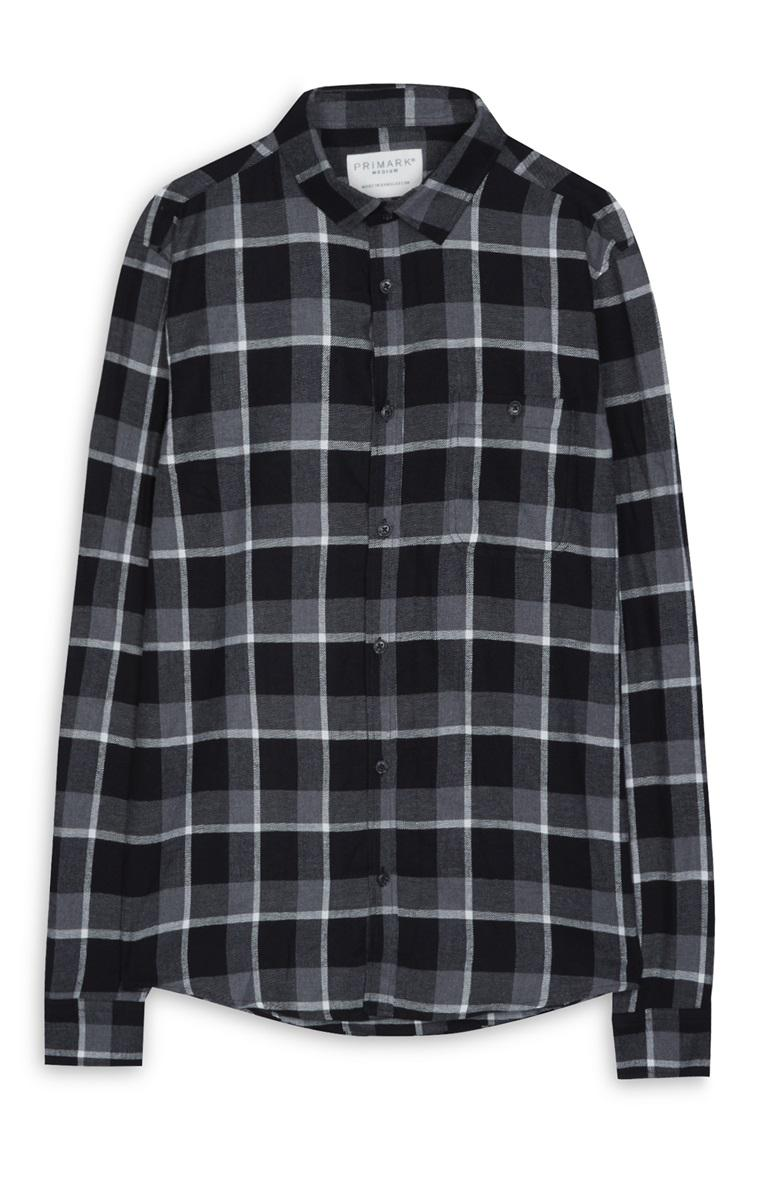teeshirt: (27, 92, 730, 1104)
